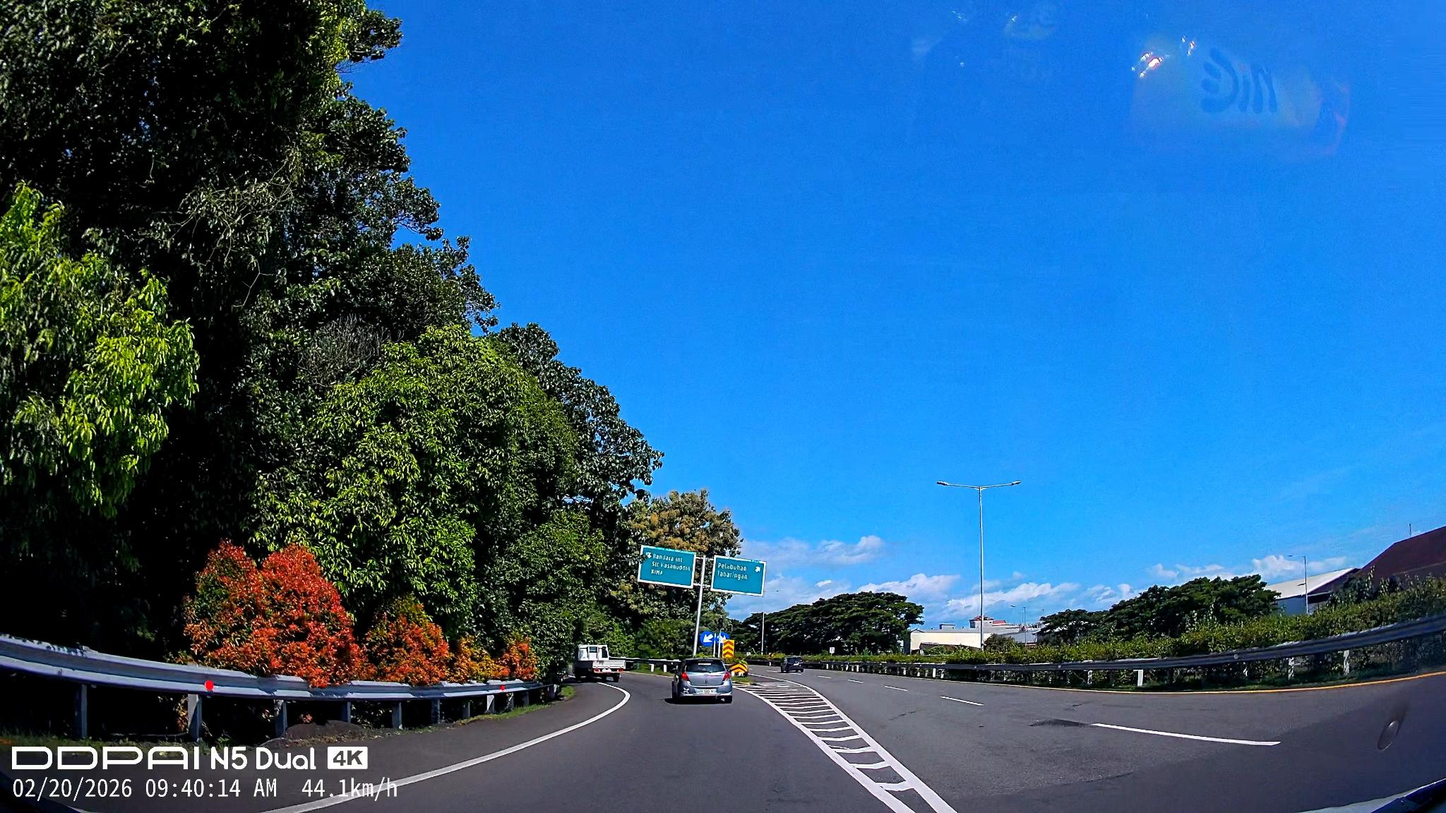rambu_teks: (711, 561, 765, 591), (640, 552, 695, 581)
